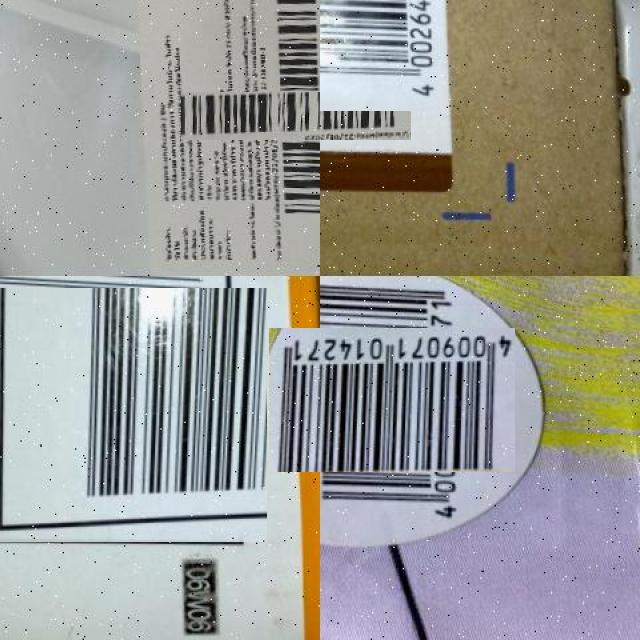Barcode: (0, 283, 260, 549), (294, 302, 490, 497), (226, 46, 366, 185), (320, 0, 443, 111)
